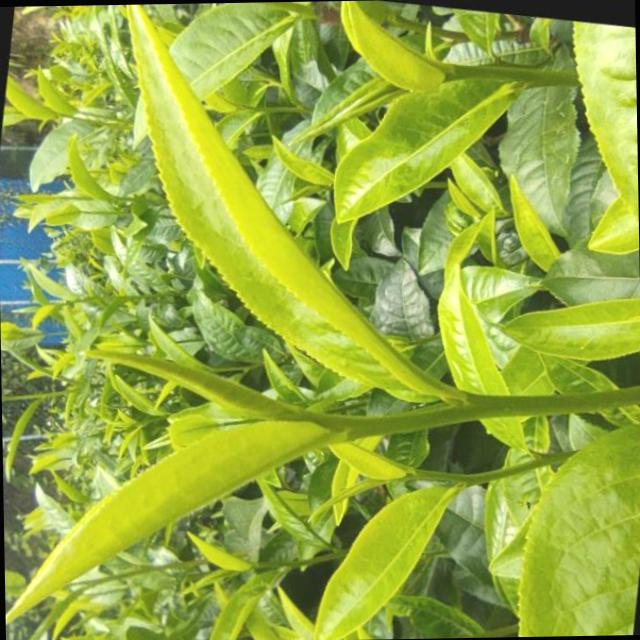Stem: (346, 414, 424, 438), (465, 467, 506, 488), (456, 65, 507, 80), (256, 560, 281, 567), (266, 106, 285, 111)
